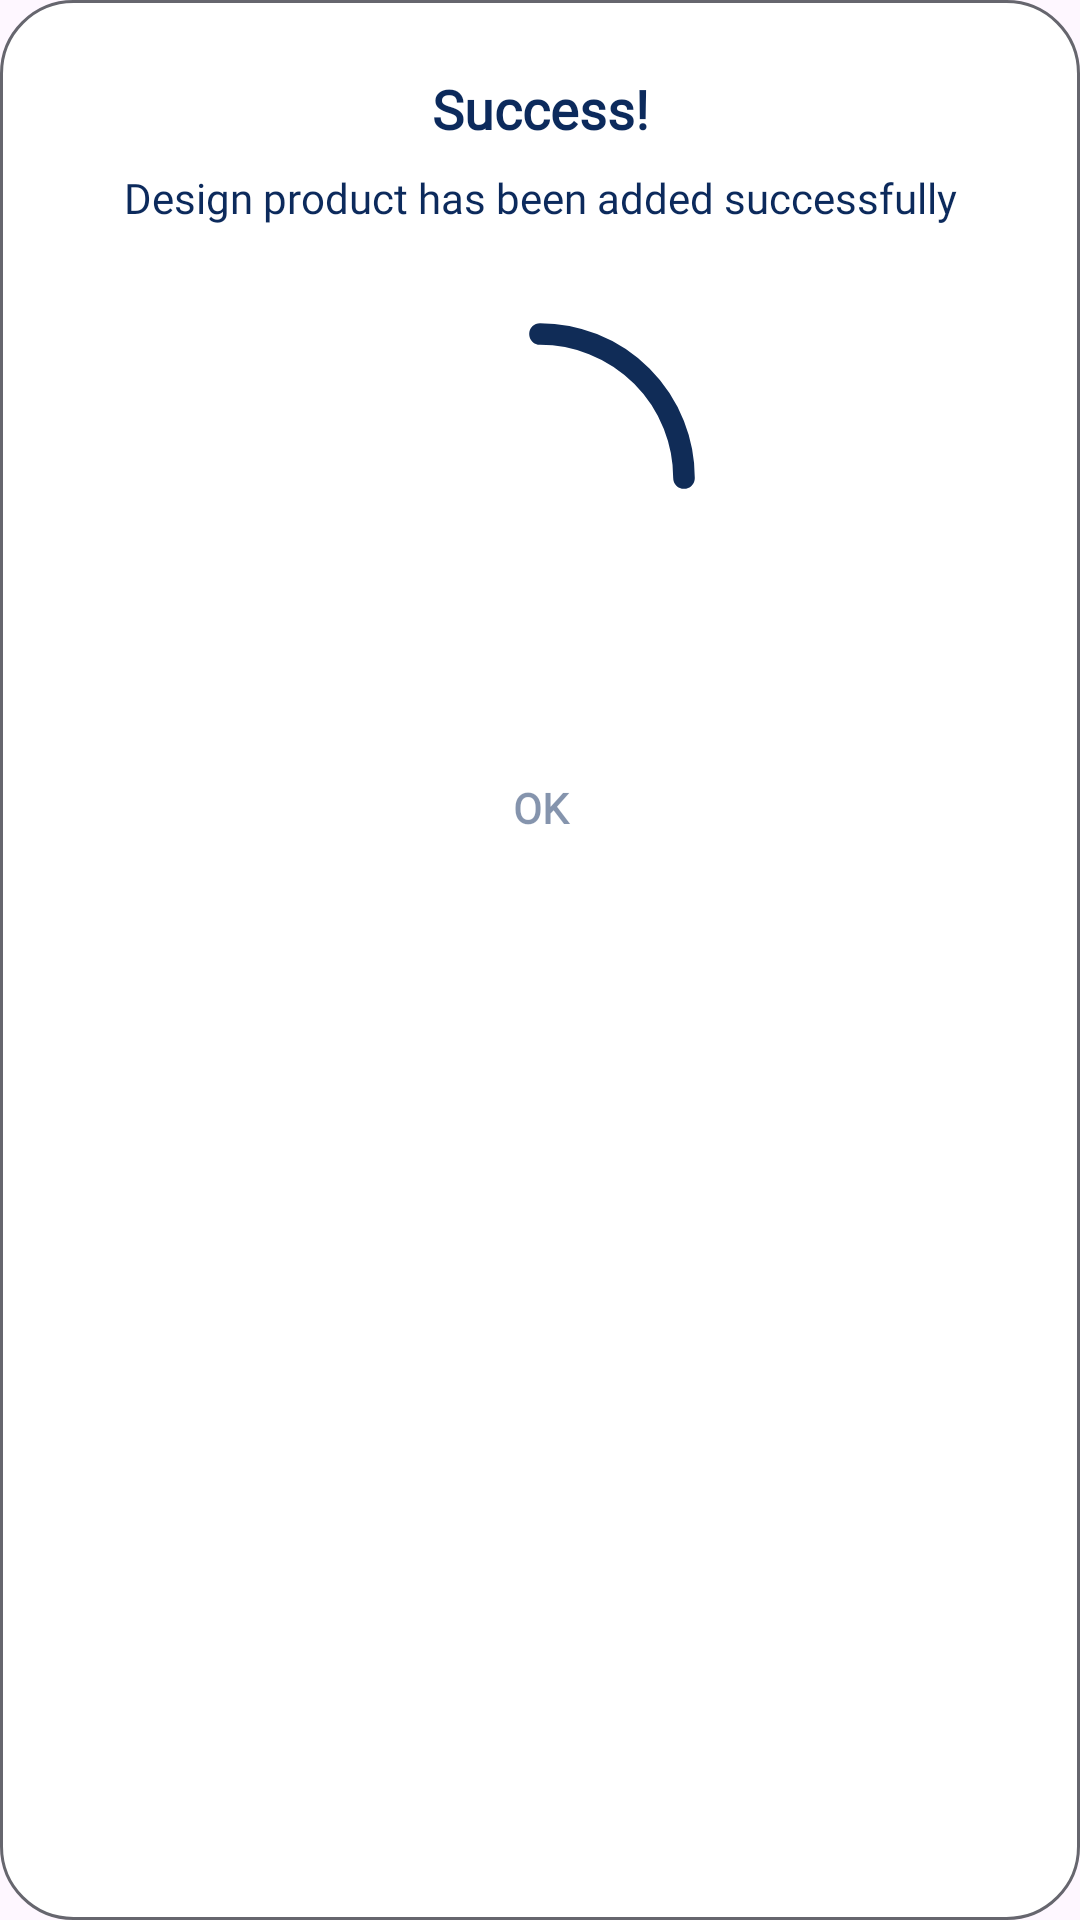

Locate icon controls on the screen. Image size 1080px×1920px, boxes as detection(x1, y1, x2, y2).
spinner arc: detection(529, 323, 695, 489)
